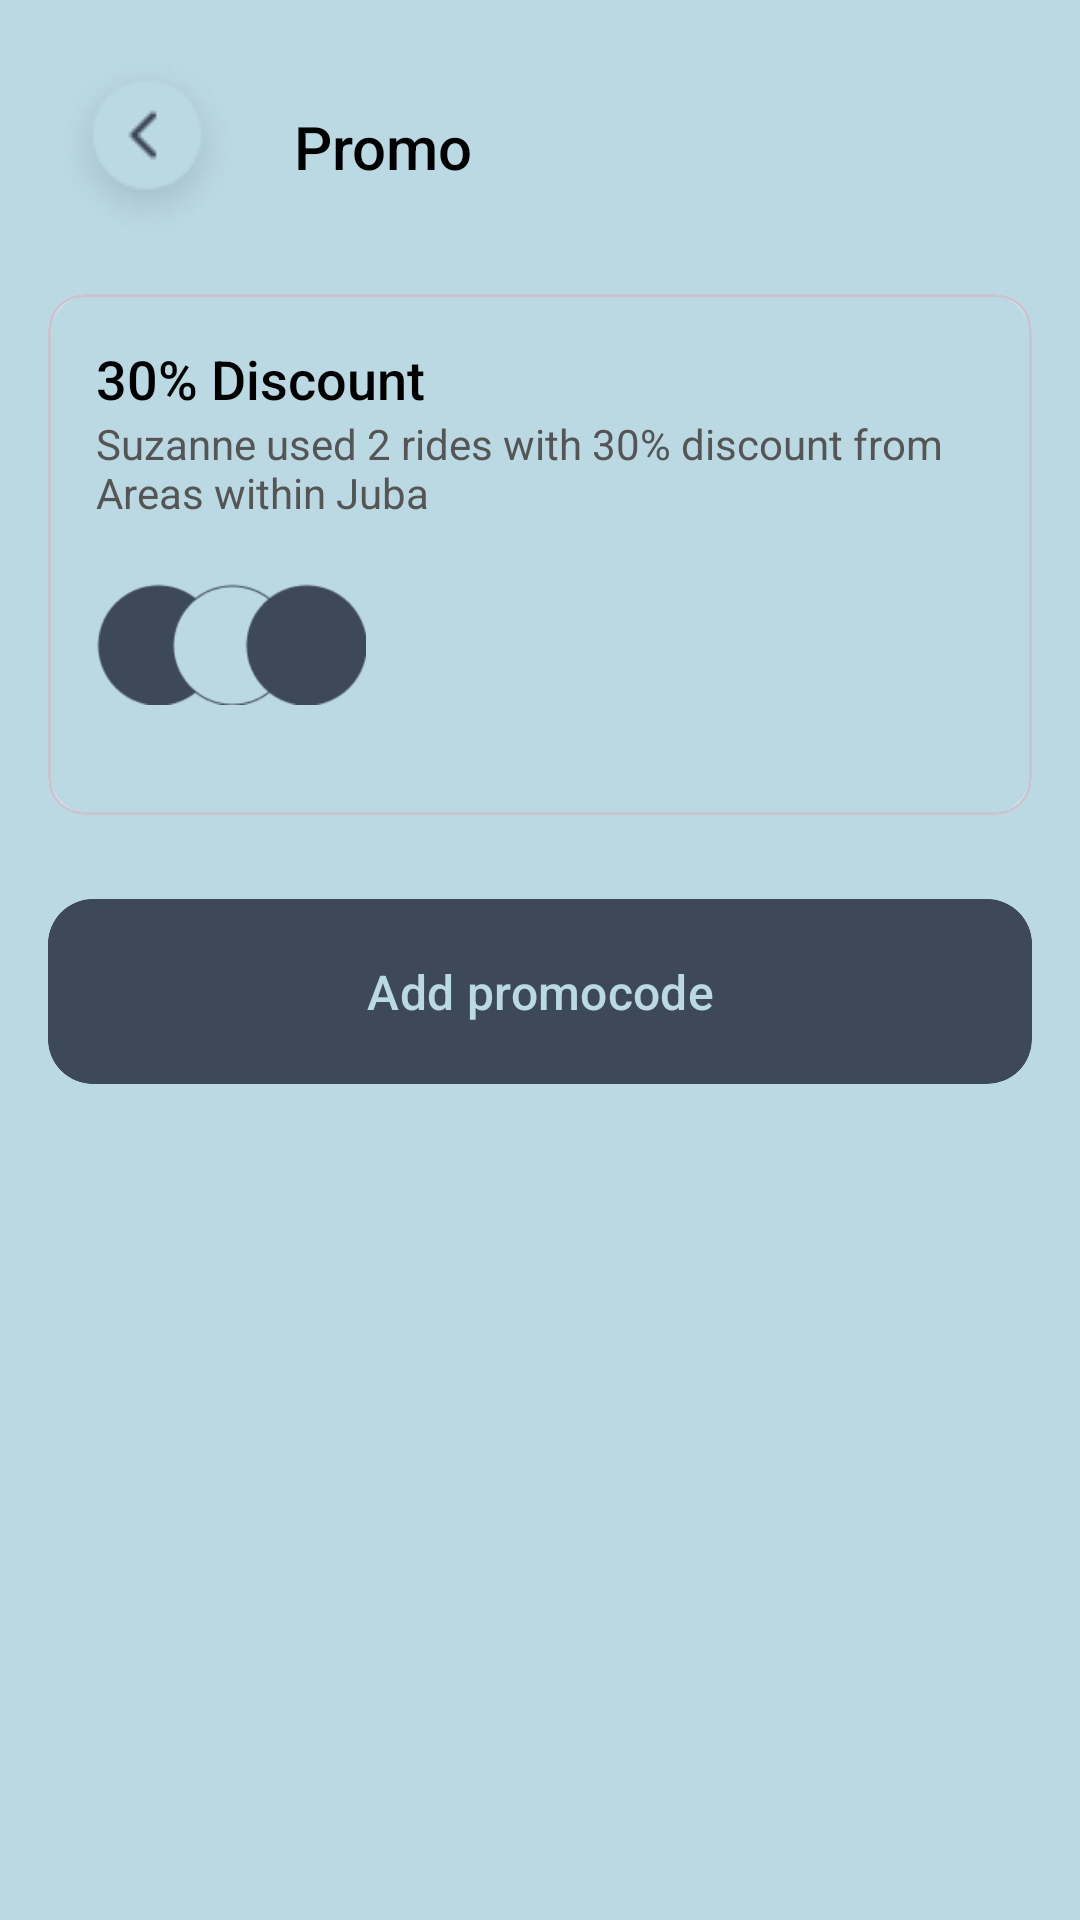

Icons on this 1080px×1920px Android screen, each with its box as (x1=x1, y1=y1, x2=x2, y2=y2):
Back: (x1=129, y1=111, x2=157, y2=159)
